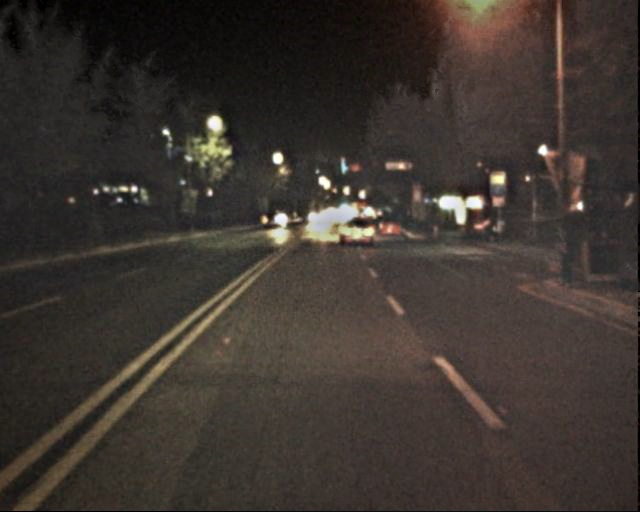person: (546, 223, 576, 297)
